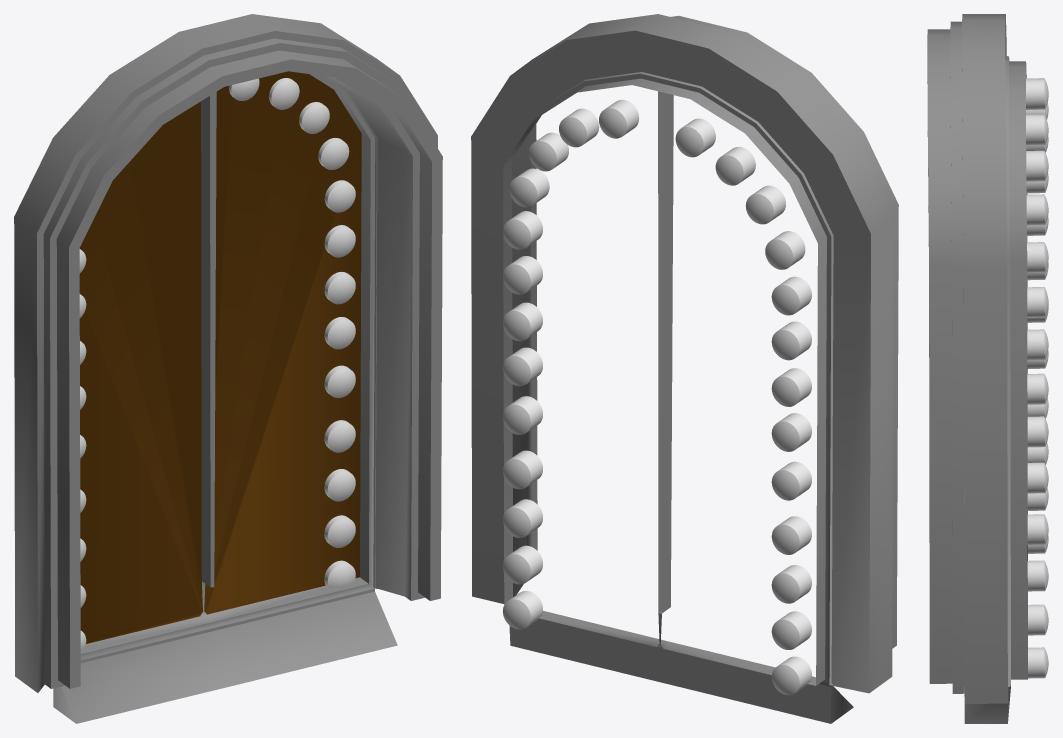
Rendered from Puerta.fbx.
The picture shows the model from 3 angles, left to right: view 1: azimuth 30°, elevation 25°; view 2: azimuth 150°, elevation 25°; view 3: azimuth 270°, elevation 25°; orthographic projection. The views are drawn at different scales.
Visible parts, largest first — view 1: Cilindro, Tanque_de_Petróleo_5, Tanque_de_Petróleo, Tanque_de_Petróleo_11, Tanque_de_Petróleo_8, Tanque_de_Petróleo_9, Tanque_de_Petróleo_10, Tanque_de_Petróleo_7, Tanque_de_Petróleo_6, Tanque_de_Petróleo_12, Tanque_de_Petróleo_1, Tanque_de_Petróleo_2 (+1 smaller); view 2: Cilindro, Tanque_de_Petróleo_1, Tanque_de_Petróleo_4, Tanque_de_Petróleo_7, Tanque_de_Petróleo_6, Tanque_de_Petróleo_3, Tanque_de_Petróleo, Tanque_de_Petróleo_11, Tanque_de_Petróleo_9, Tanque_de_Petróleo_10, Tanque_de_Petróleo_8, Tanque_de_Petróleo_5 (+2 smaller); view 3: Cilindro, Tanque_de_Petróleo_4, Tanque_de_Petróleo_11, Tanque_de_Petróleo_10, Tanque_de_Petróleo_9, Tanque_de_Petróleo, Tanque_de_Petróleo_5, Tanque_de_Petróleo_8, Tanque_de_Petróleo_2, Tanque_de_Petróleo_12, Tanque_de_Petróleo_6, Tanque_de_Petróleo_1 (+2 smaller).
Part boxes in pixels (bbox=[...]): Cilindro: bbox=[14, 14, 442, 723]; Tanque_de_Petróleo_5: bbox=[79, 225, 355, 318]; Tanque_de_Petróleo: bbox=[79, 180, 355, 273]; Tanque_de_Petróleo_11: bbox=[80, 515, 355, 607]; Tanque_de_Petróleo_8: bbox=[80, 365, 355, 458]; Tanque_de_Petróleo_9: bbox=[80, 420, 355, 512]; Tanque_de_Petróleo_10: bbox=[80, 469, 355, 561]; Tanque_de_Petróleo_7: bbox=[80, 317, 355, 409]; Tanque_de_Petróleo_6: bbox=[80, 271, 355, 364]; Tanque_de_Petróleo_12: bbox=[80, 560, 355, 649]; Tanque_de_Petróleo_1: bbox=[318, 138, 349, 169]; Tanque_de_Petróleo_2: bbox=[299, 102, 329, 133]; Cilindro: bbox=[471, 14, 898, 723]; Tanque_de_Petróleo_1: bbox=[509, 168, 805, 269]; Tanque_de_Petróleo_4: bbox=[599, 99, 715, 157]; Tanque_de_Petróleo_7: bbox=[503, 347, 811, 451]; Tanque_de_Petróleo_6: bbox=[503, 302, 811, 406]; Tanque_de_Petróleo_3: bbox=[559, 108, 755, 185]; Tanque_de_Petróleo: bbox=[503, 211, 811, 315]; Tanque_de_Petróleo_11: bbox=[503, 545, 811, 649]; Tanque_de_Petróleo_9: bbox=[503, 450, 811, 554]; Tanque_de_Petróleo_10: bbox=[503, 499, 811, 603]; Tanque_de_Petróleo_8: bbox=[503, 396, 811, 500]; Tanque_de_Petróleo_5: bbox=[503, 256, 811, 360]; Cilindro: bbox=[927, 14, 1027, 723]; Tanque_de_Petróleo_4: bbox=[1026, 79, 1048, 145]; Tanque_de_Petróleo_11: bbox=[1027, 488, 1048, 635]; Tanque_de_Petróleo_10: bbox=[1027, 442, 1048, 591]; Tanque_de_Petróleo_9: bbox=[1027, 398, 1048, 545]; Tanque_de_Petróleo: bbox=[1026, 173, 1048, 317]; Tanque_de_Petróleo_5: bbox=[1027, 216, 1048, 360]; Tanque_de_Petróleo_8: bbox=[1027, 351, 1048, 493]; Tanque_de_Petróleo_2: bbox=[1026, 103, 1048, 225]; Tanque_de_Petróleo_12: bbox=[1028, 536, 1048, 678]; Tanque_de_Petróleo_6: bbox=[1027, 263, 1048, 404]; Tanque_de_Petróleo_1: bbox=[1026, 136, 1048, 272].
Size of the model in its own units: 116 by 179 by 32.12.
